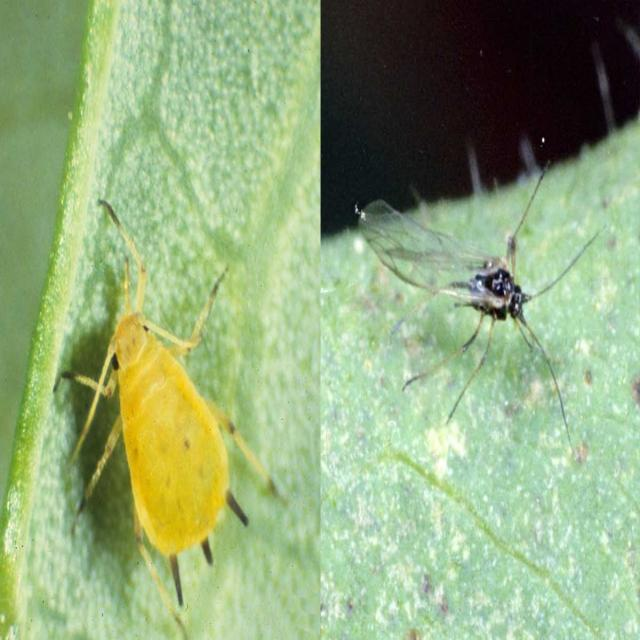Aphid-Grown-: (70, 243, 273, 595)
Aphid-Grown-have wings-: (353, 142, 609, 420)
